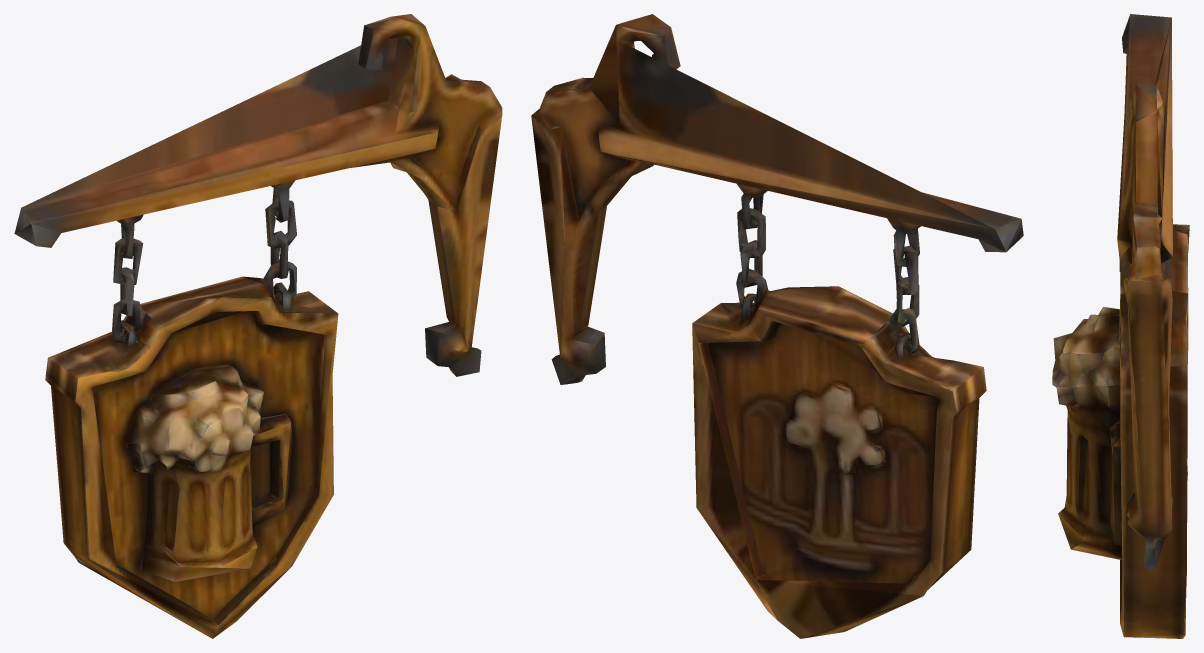
File: obj_sign_tavern.glb
3 views of the same model, side by side, from view 1: azimuth 30°, elevation 25°; view 2: azimuth 150°, elevation 25°; view 3: azimuth 270°, elevation 25° (orthographic). The views are drawn at different scales.
Parts seen in each view (by area): view 1: Mesh_0.011; view 2: Mesh_0.011; view 3: Mesh_0.011.
Boxes of the visible parts, bbox=[...] form: Mesh_0.011: bbox=[14, 14, 502, 638]; Mesh_0.011: bbox=[531, 14, 1023, 638]; Mesh_0.011: bbox=[1052, 14, 1189, 638].
Bounding box in the file's own units: 1.7 × 1.96 × 0.3722.
1 material, 1 textured.
